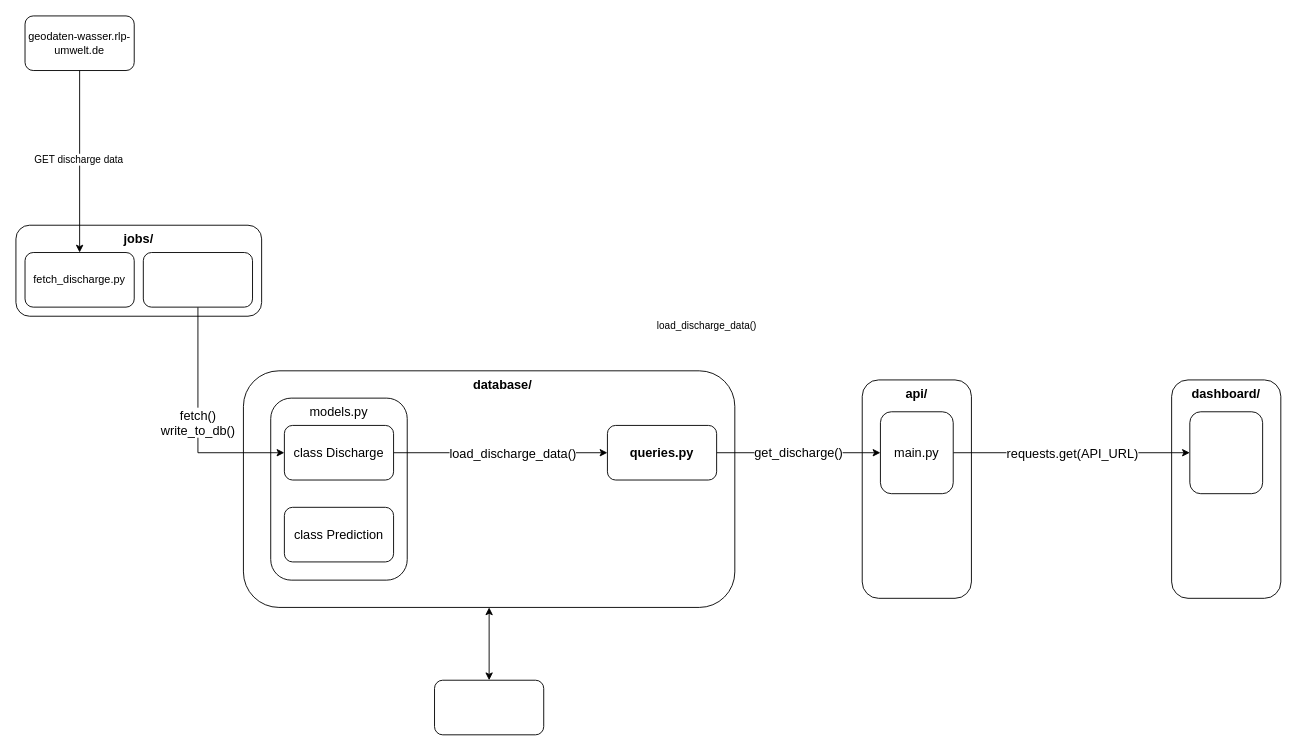
Image size: 1297x751. Some labels were removed from this diagram. Here are the shapes that lost their labels. From the top down, the centre of each, then its label:
point (197, 279): ingest_discharge.py
point (1226, 452): app.py
point (489, 707): queich.db
